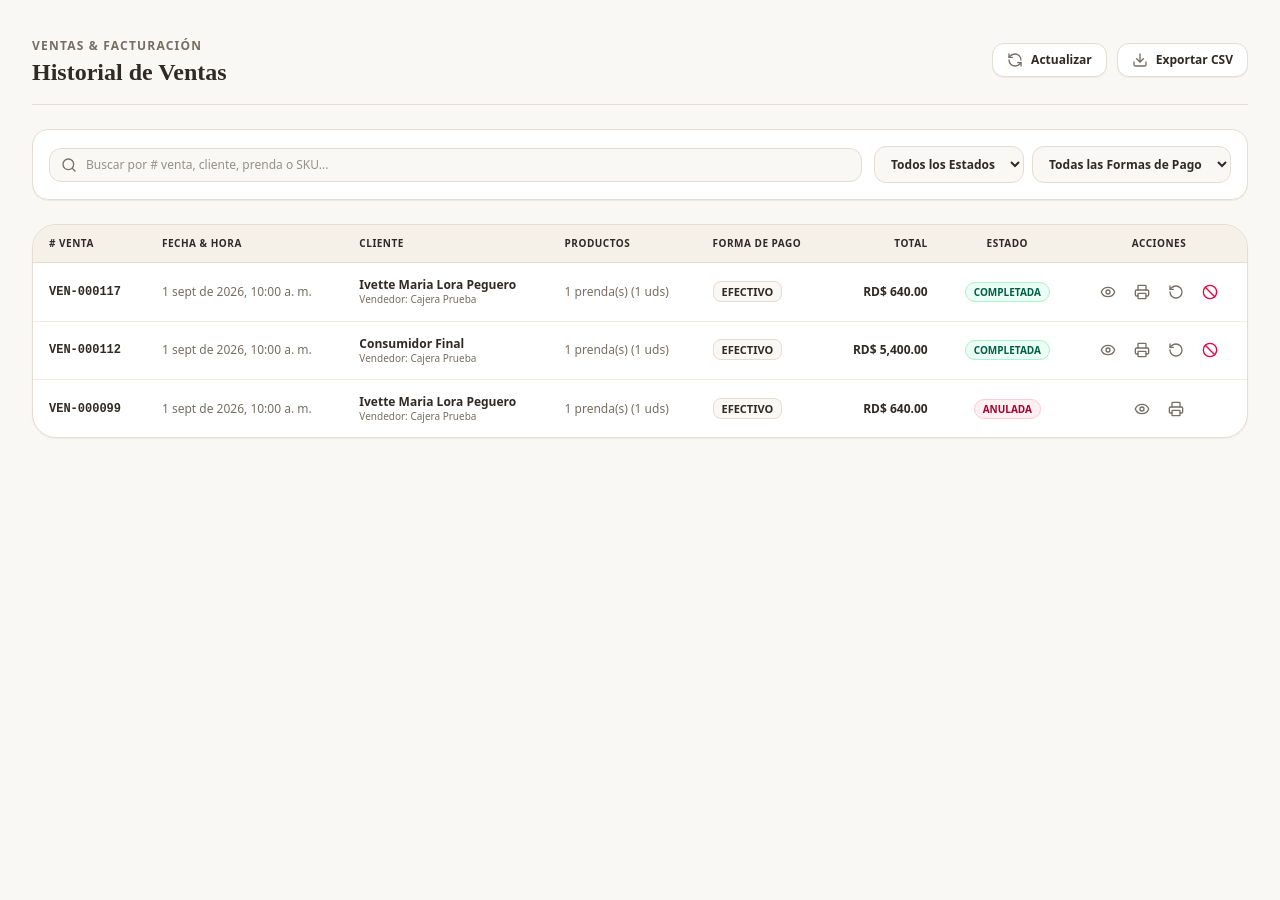
Test: SalesView -- devolución directa desde Historial (botón + doble confirmación) › la primera confirmación aparece al hacer clic, con los datos reales de la venta
The image size is (1280, 900).
Click the button named "Procesar devolución" in the row of "VEN-000117".
click(1176, 292)  # box [1162,278,1190,306]
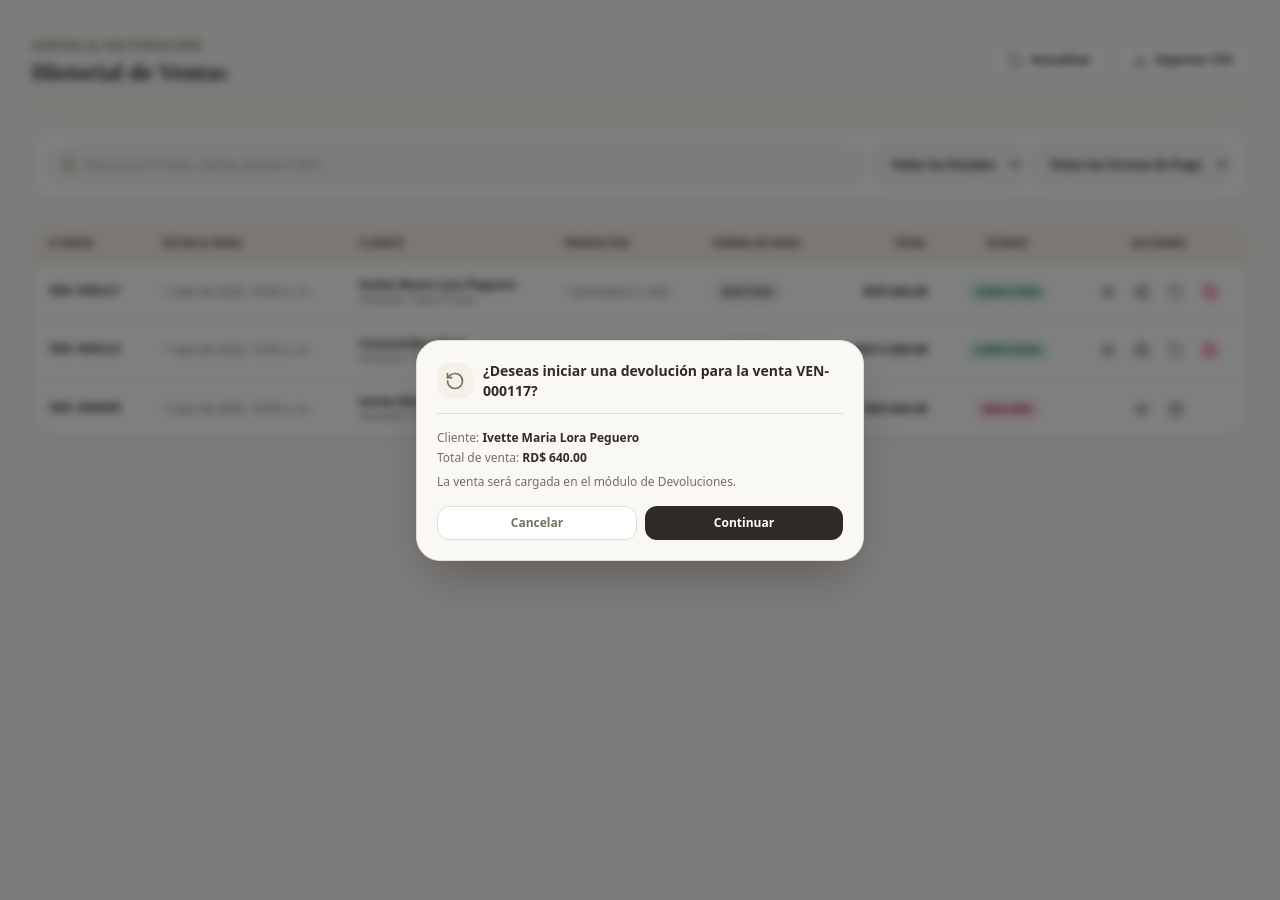
Expected: the heading "¿Deseas iniciar una devolución para la venta VEN-000117?" is shown, [483,360,843,400]
Expected: the text "Ivette Maria Lora Peguero" is shown, [482,428,639,446]
Expected: the text "La venta será cargada en el módulo de Devoluciones." is shown, [437,472,736,490]
